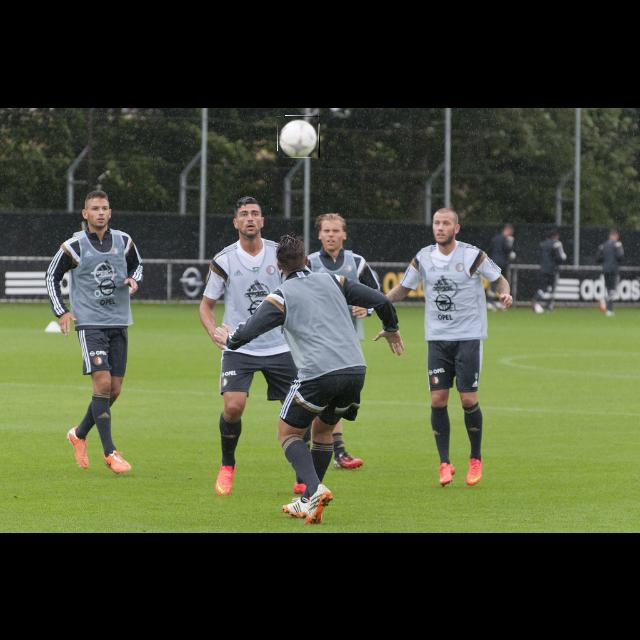Football: (278, 116, 320, 158)
